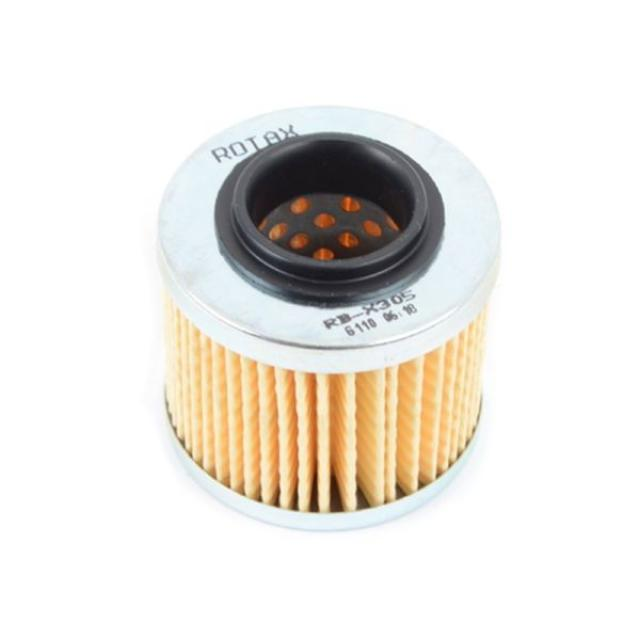oil_filter: (148, 91, 506, 538)
